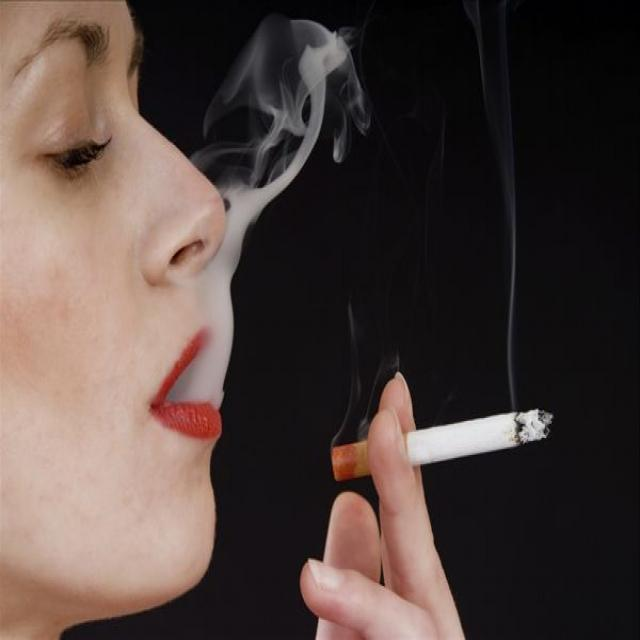smoking: (331, 406, 554, 484)
